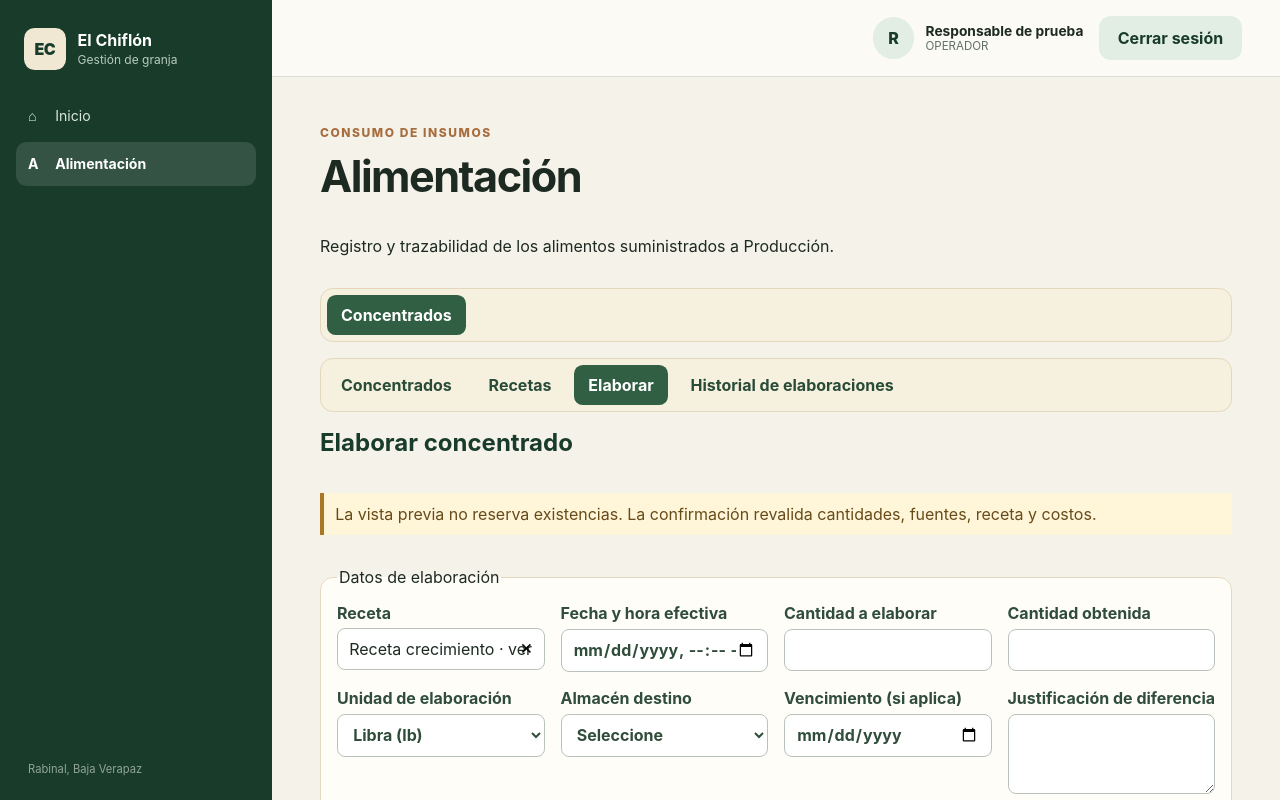
Test case: presenta todos los faltantes e impide confirmar una elaboración incompleta
The width and height of the screenshot is (1280, 800).
Expected: the dropdown showing "Receta crecimiento · versión 2" is shown, [337,628,544,670]
Type "2026-09-22T09:30" into the field labelled "Fecha y hora efectiva" at (664, 650), box [560,629,768,672]
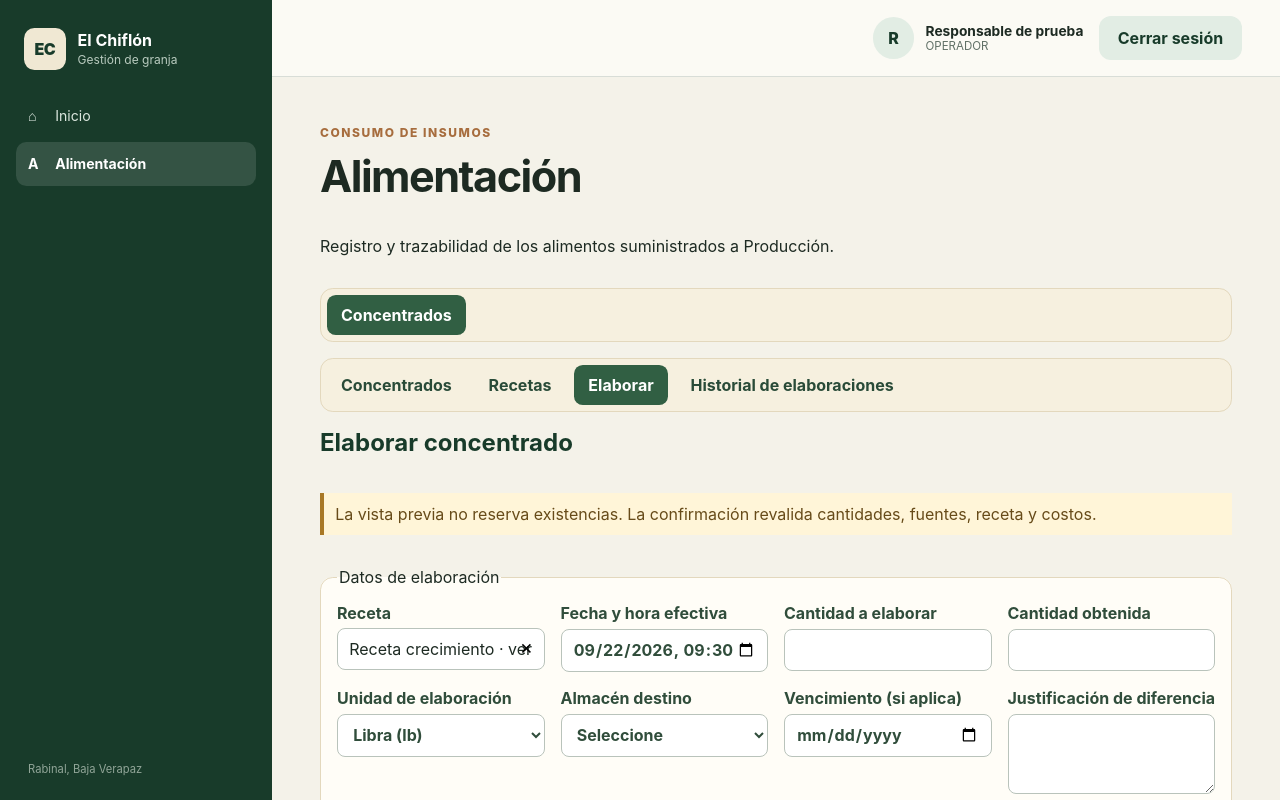
Type "500" into the field labelled "Cantidad a elaborar" at (888, 650), box [784,629,992,671]
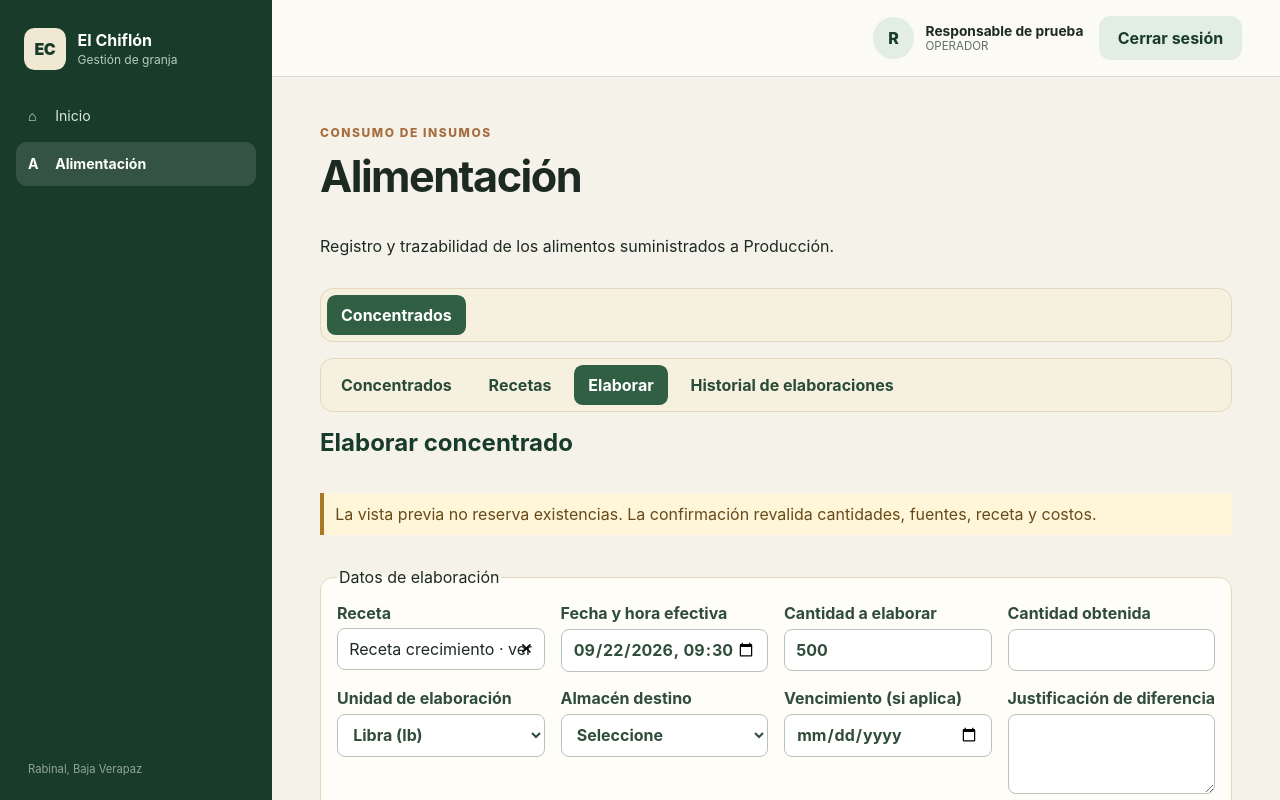
Type "490" into the field labelled "Cantidad obtenida" at (1111, 650), box [1008,629,1215,671]
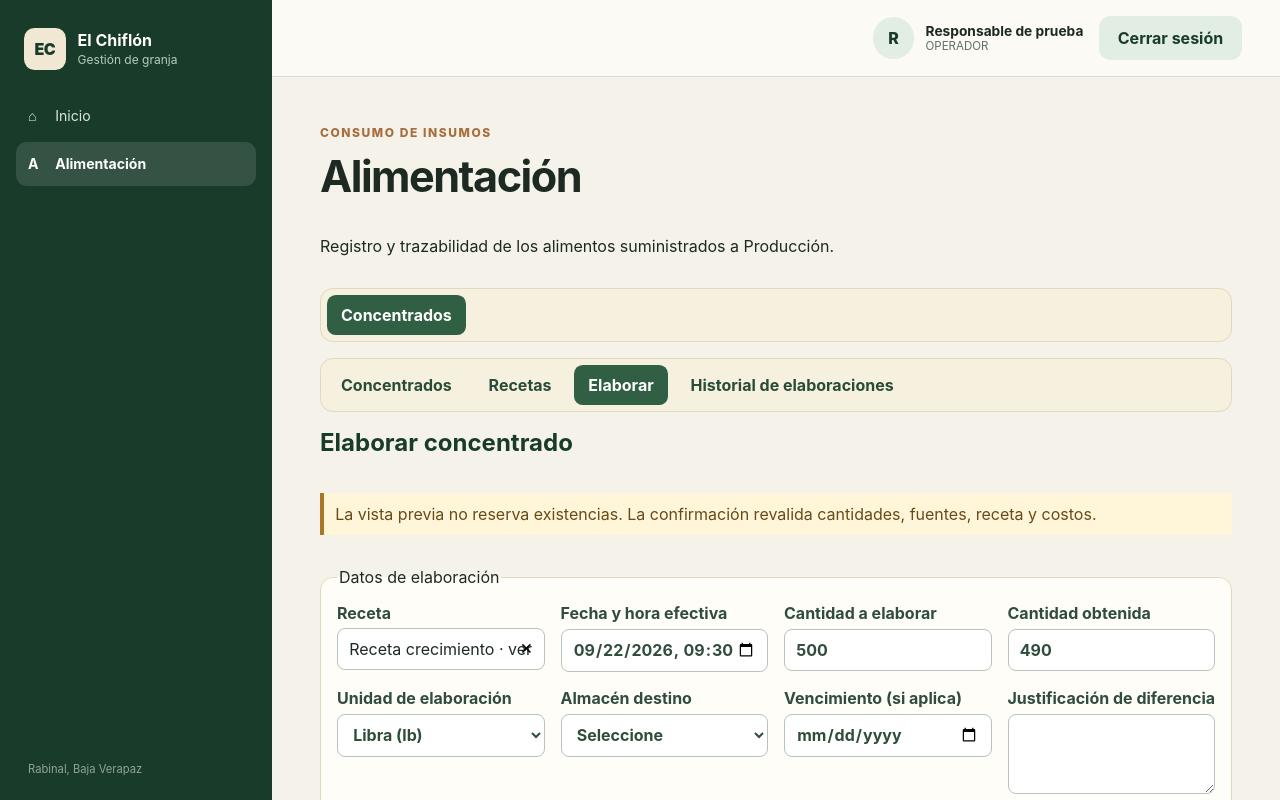
Select "A-7 · Central" in the dropdown labelled "Almacén destino" at (664, 735), box [560,714,768,757]
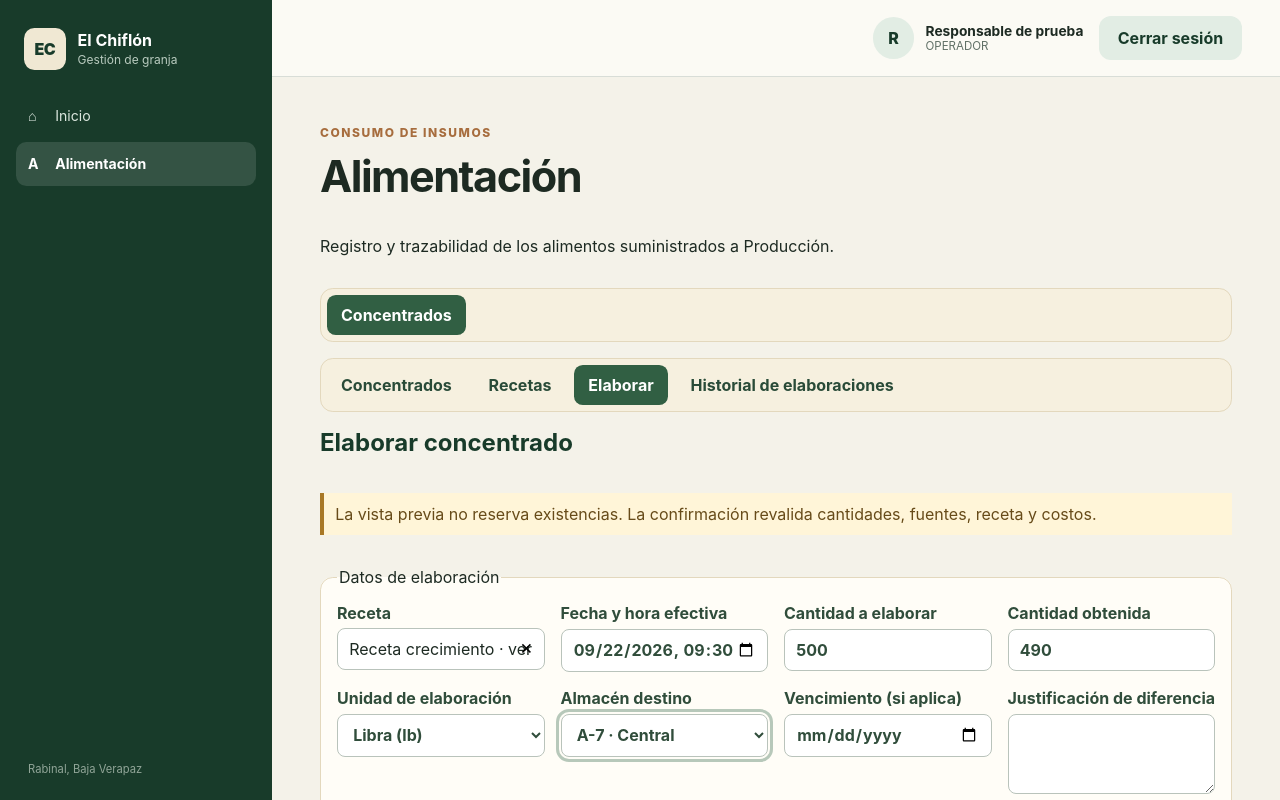
Type "Merma documentada" into the text box labelled "Justificación de diferencia" at (1111, 754), box [1008,714,1215,794]
(page scrolled)
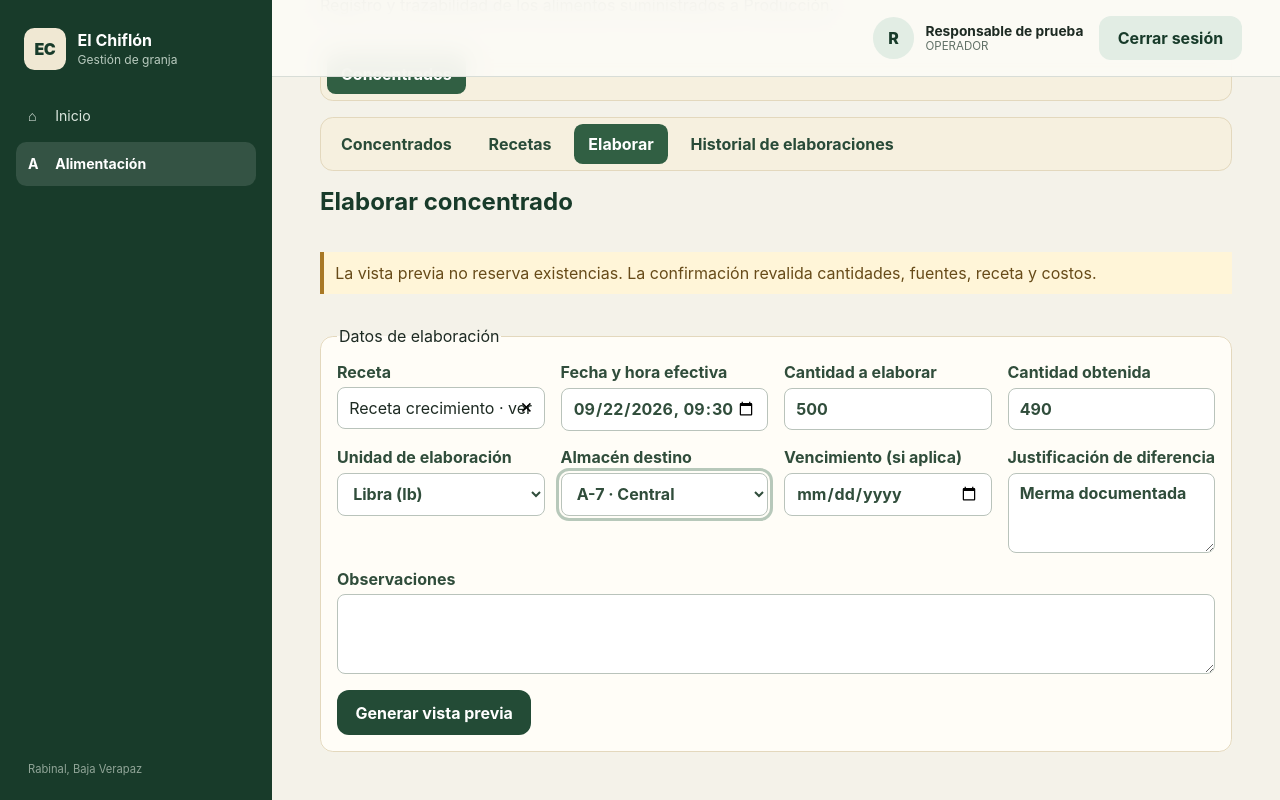
Click the button "Generar vista previa" at (434, 713), box [337,690,531,735]
(page scrolled)
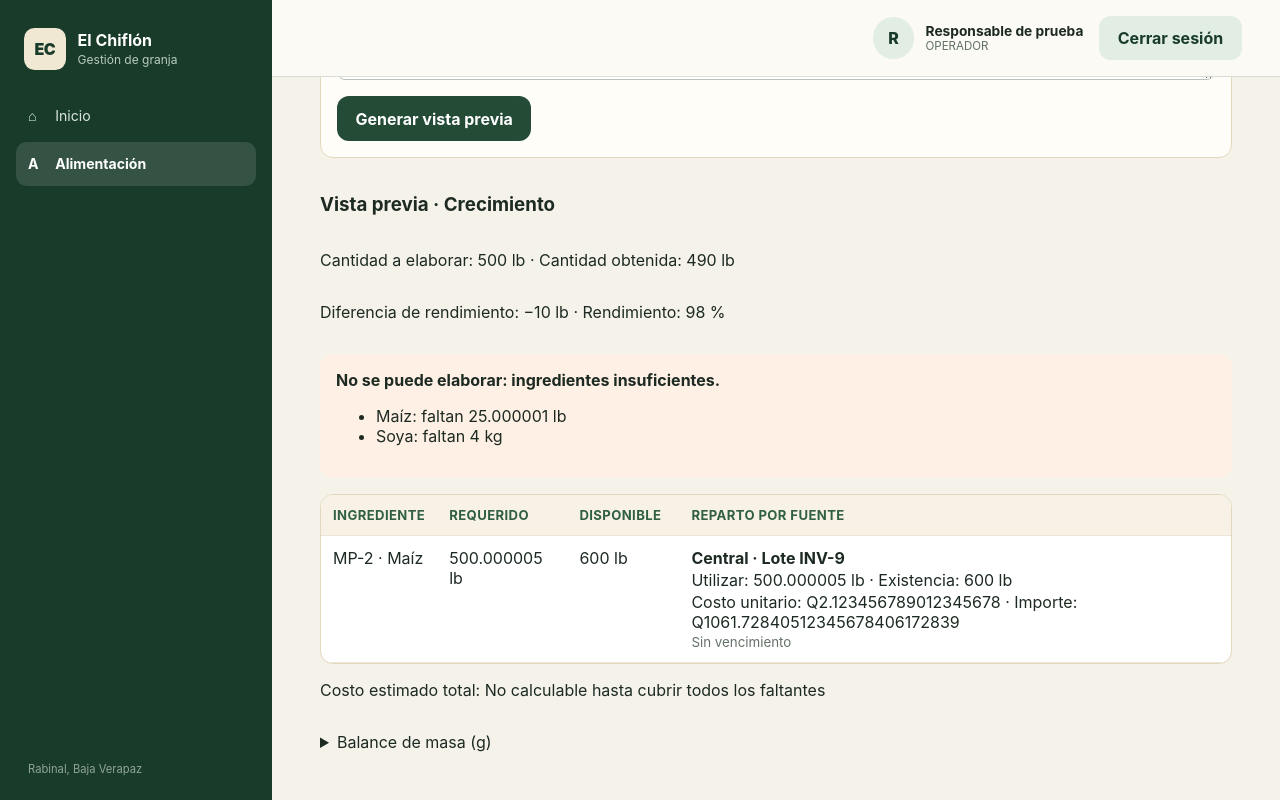
Result: the element named "Vista previa de elaboración" is shown at [320,174,1232,752]
Result: the message shows "Maíz: faltan 25.000001 lb" at [320,354,1232,478]
Result: the message shows "Soya: faltan 4 kg" at [320,354,1232,478]
